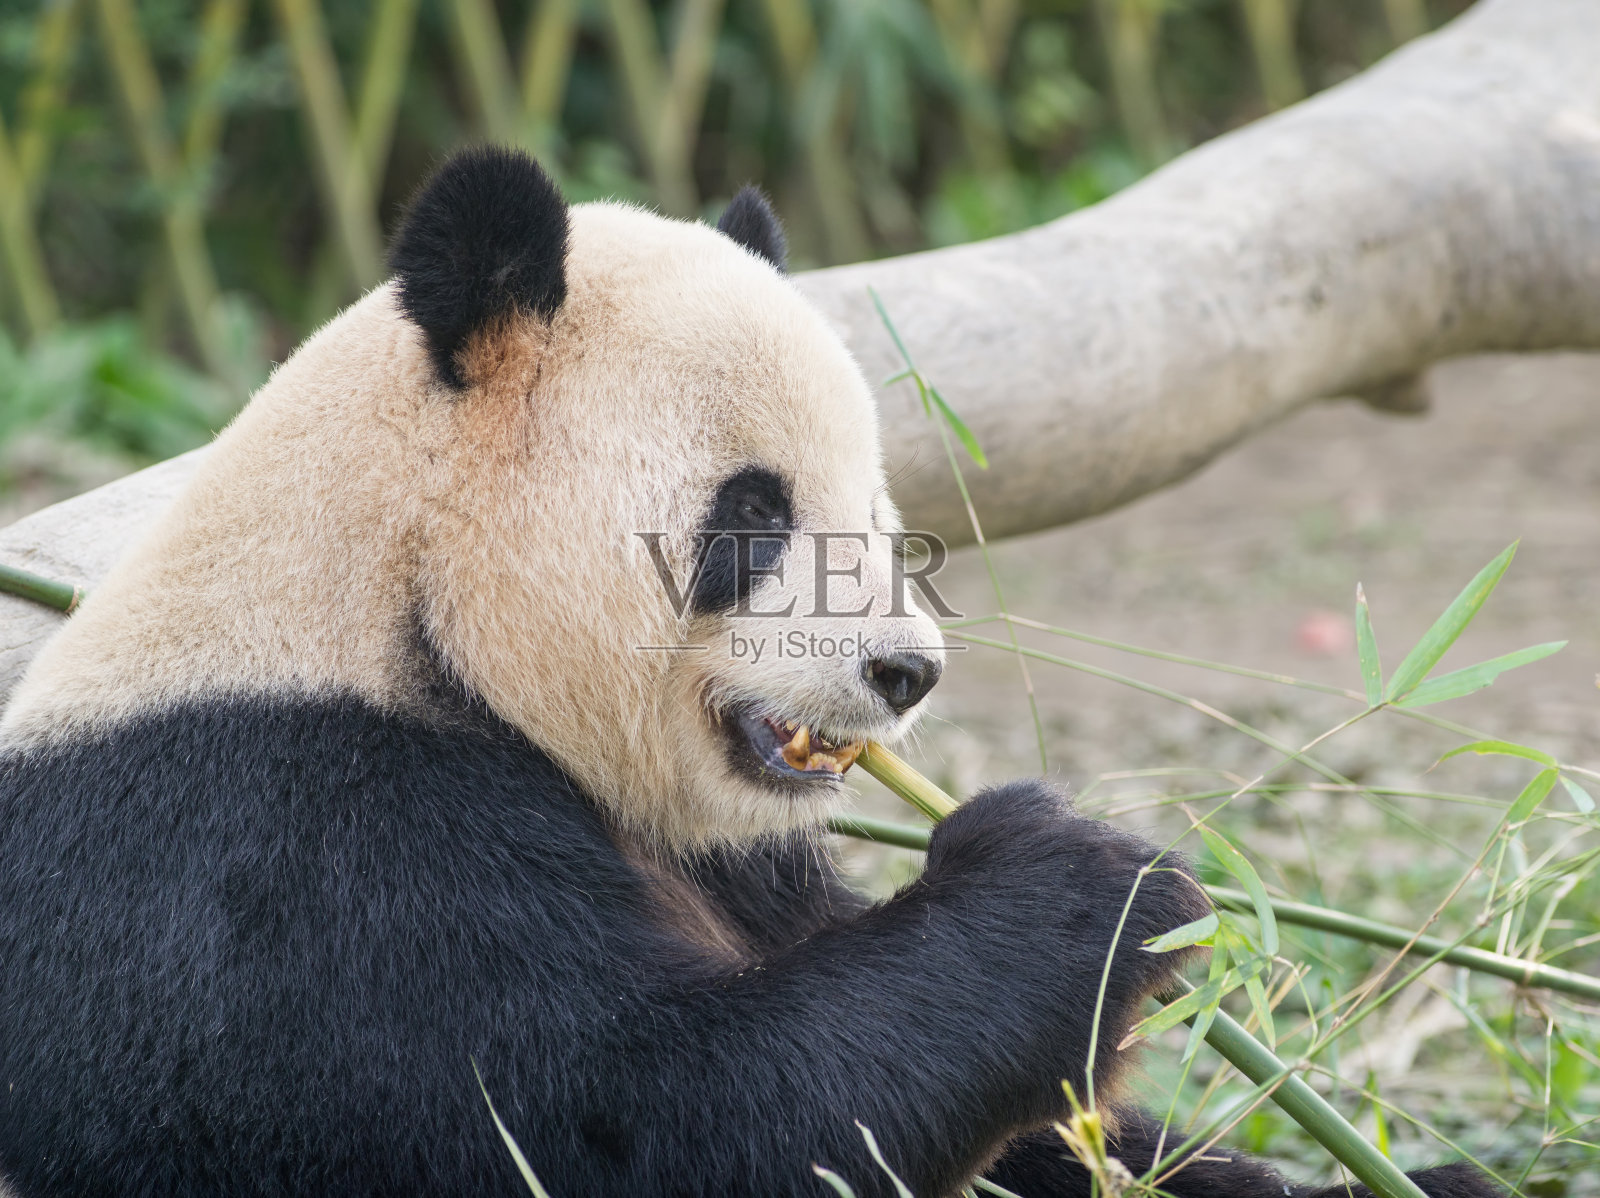panda: (72, 143, 1127, 1198)
